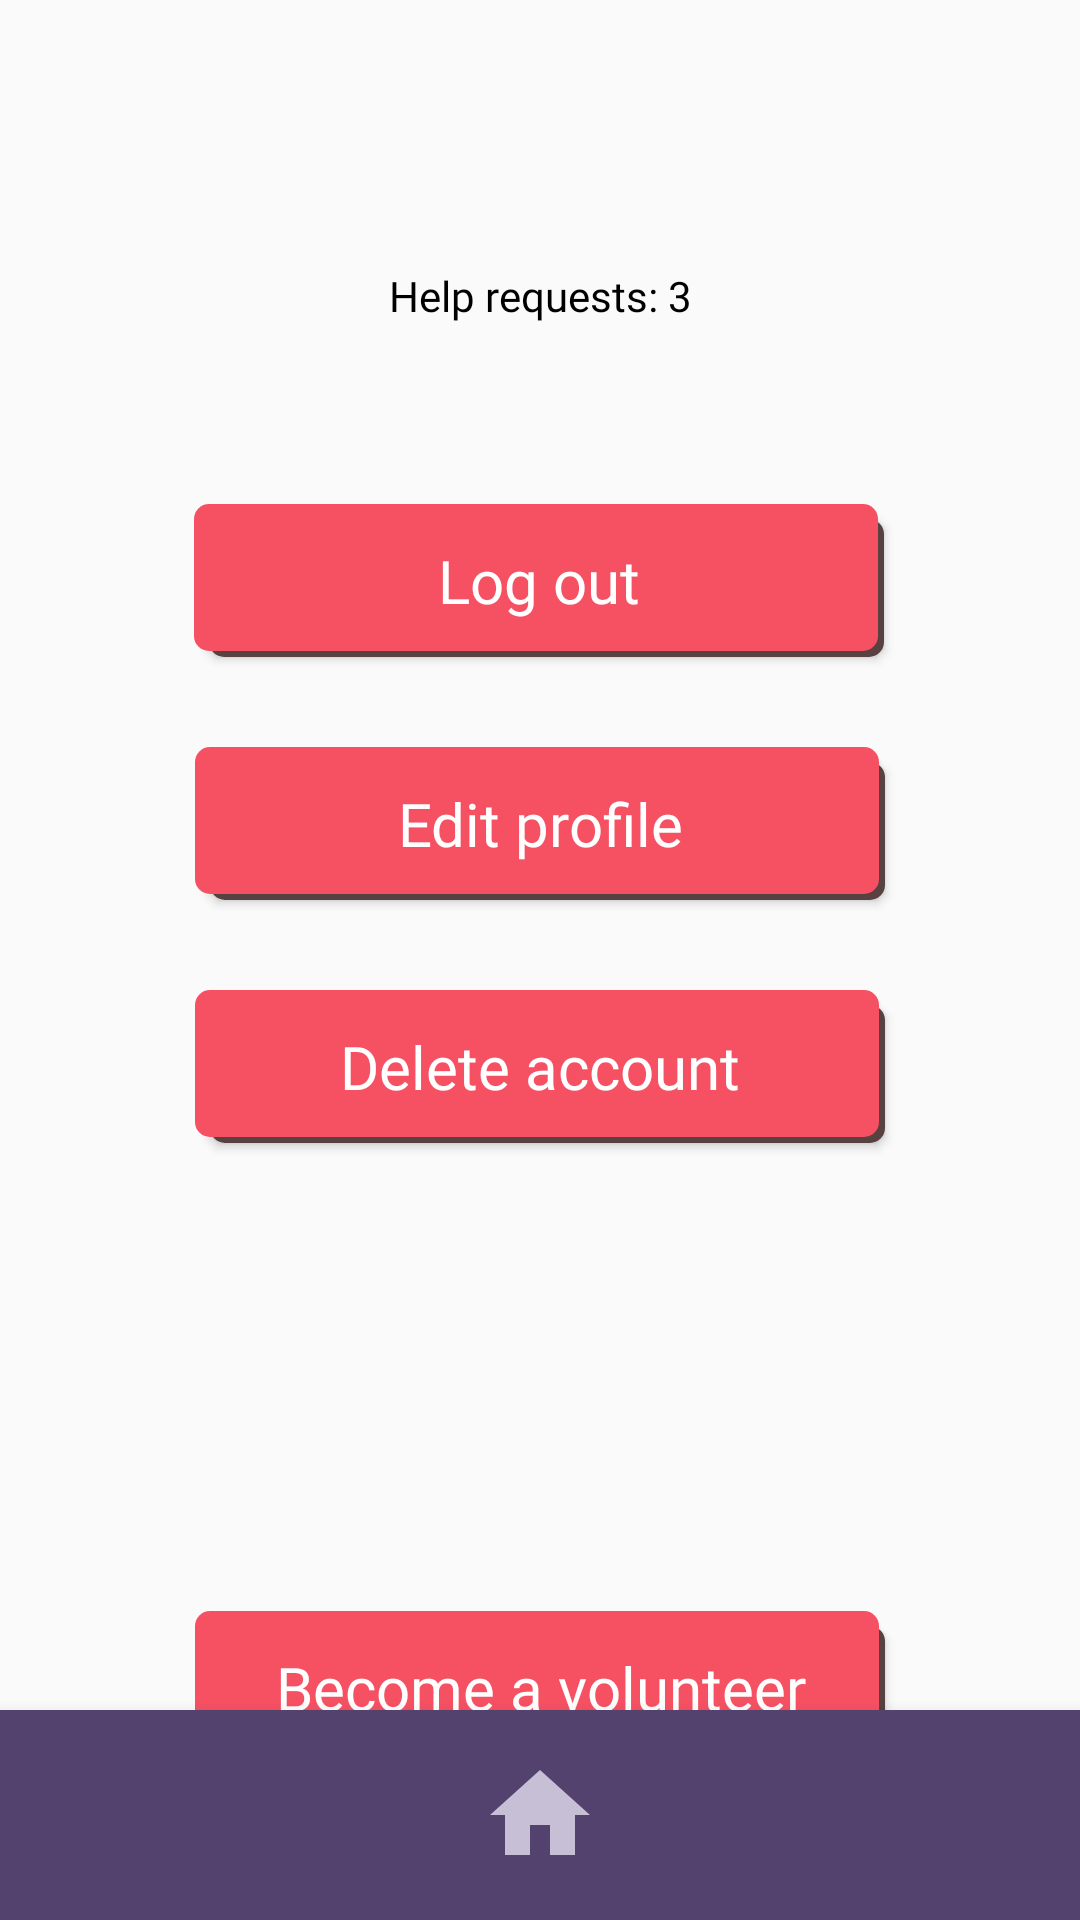

Icons on this 1080px x 1920px Android screen, each with the point to tap as point (x, y):
home: point (540, 1812)
